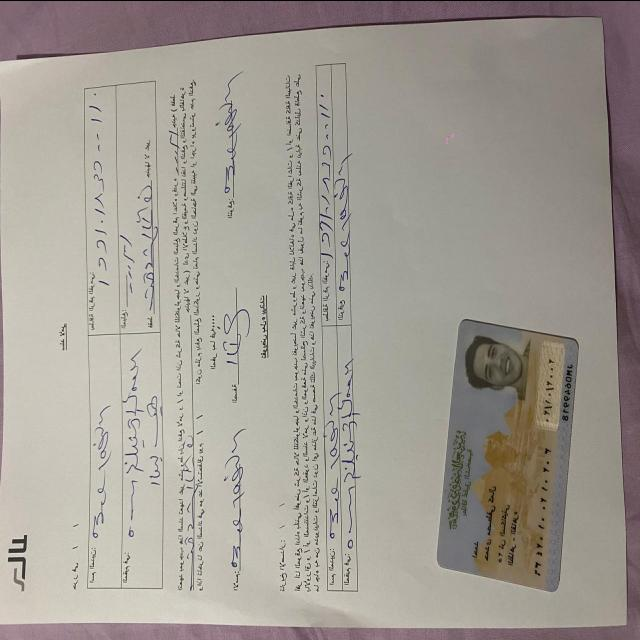ID-cards: (432, 313, 584, 599)
